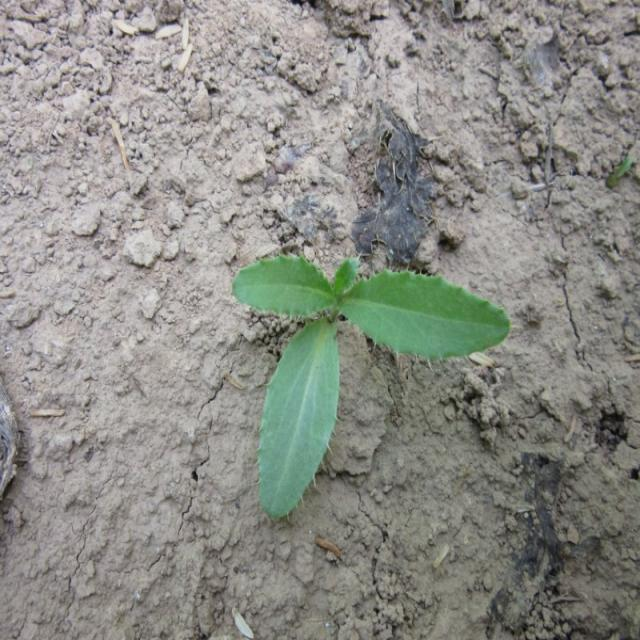cs: (228, 248, 514, 520)
